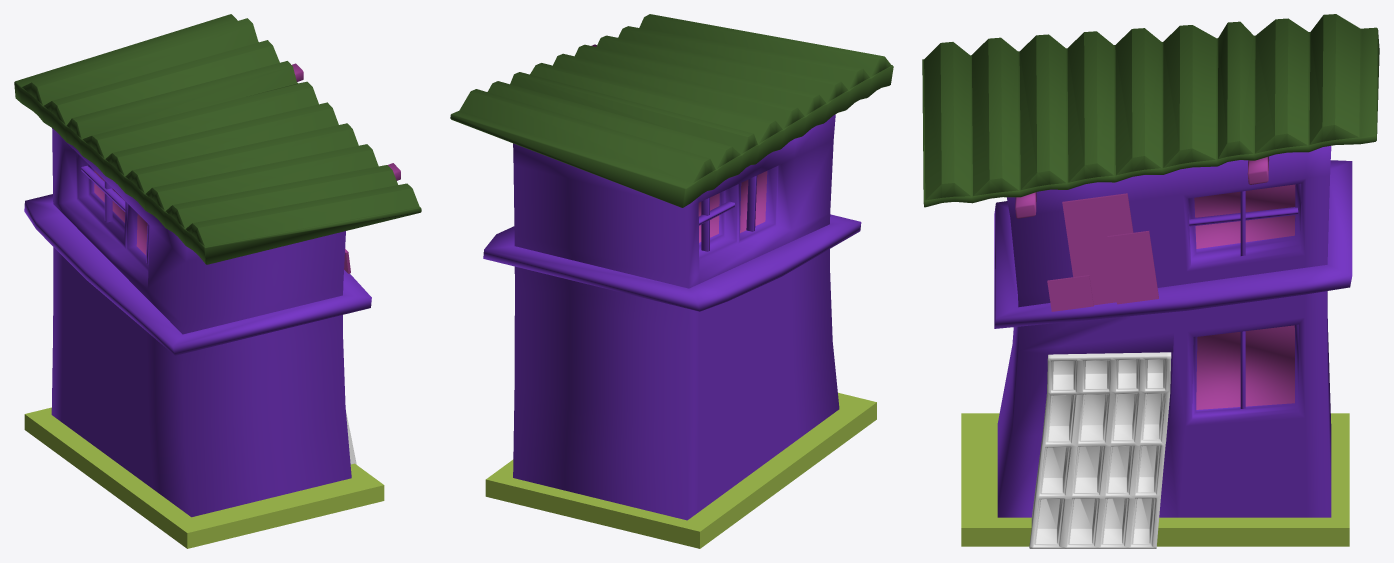
The model's file is SM_House_01.fbx.
3 renders of one model, left to right at view 1: azimuth 30°, elevation 25°; view 2: azimuth 150°, elevation 25°; view 3: azimuth 270°, elevation 25°, orthographic. The views are drawn at different scales.
Parts seen in each view (by area): view 1: Object002; view 2: Object002; view 3: Object002.
Boxes of the visible parts, x1,y1,x2,y2 form: Object002: (14, 14, 421, 548); Object002: (450, 14, 893, 548); Object002: (922, 14, 1379, 548).
Size of the model in its own units: 949 by 1354 by 1291.
